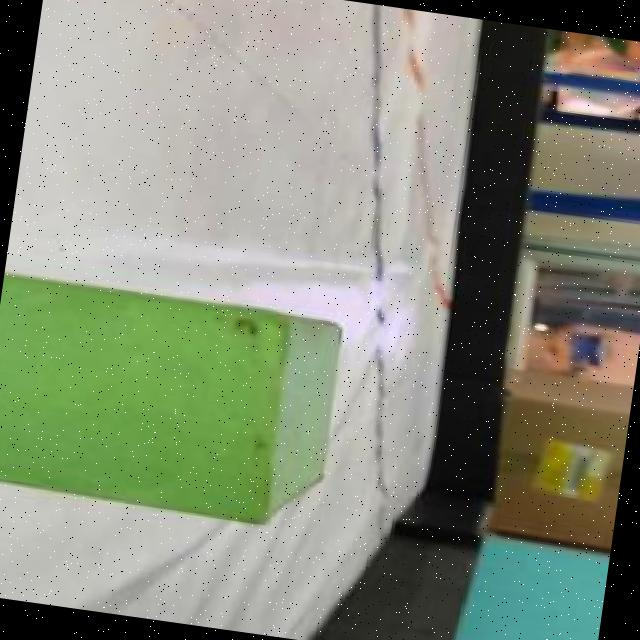greenbox: (0, 266, 355, 539)
